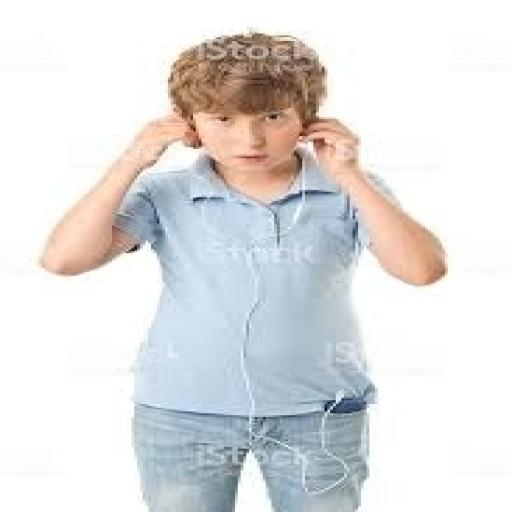listening_to_music: (36, 30, 450, 510)
